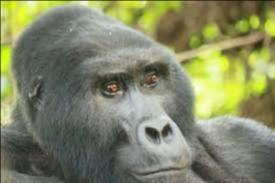gorille_Autres: (3, 6, 274, 183)
